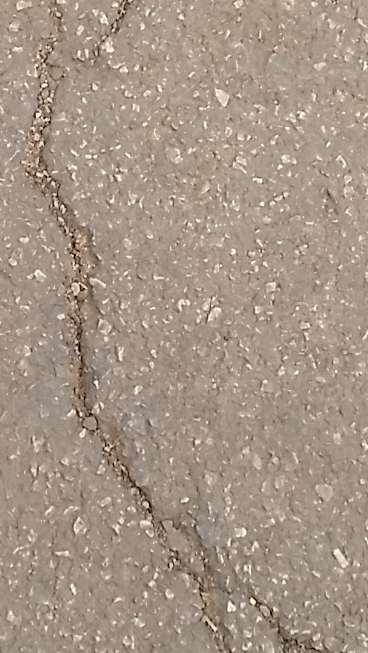A: (14, 3, 335, 653)
